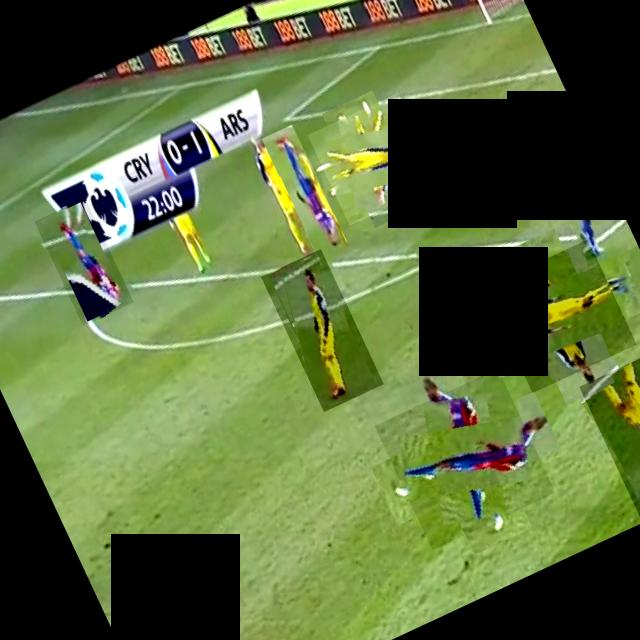soccer-player: (373, 368, 555, 550), (482, 238, 636, 392), (260, 248, 383, 412), (523, 101, 638, 267), (306, 92, 439, 225), (260, 124, 350, 266), (34, 197, 132, 325), (578, 348, 640, 523)
